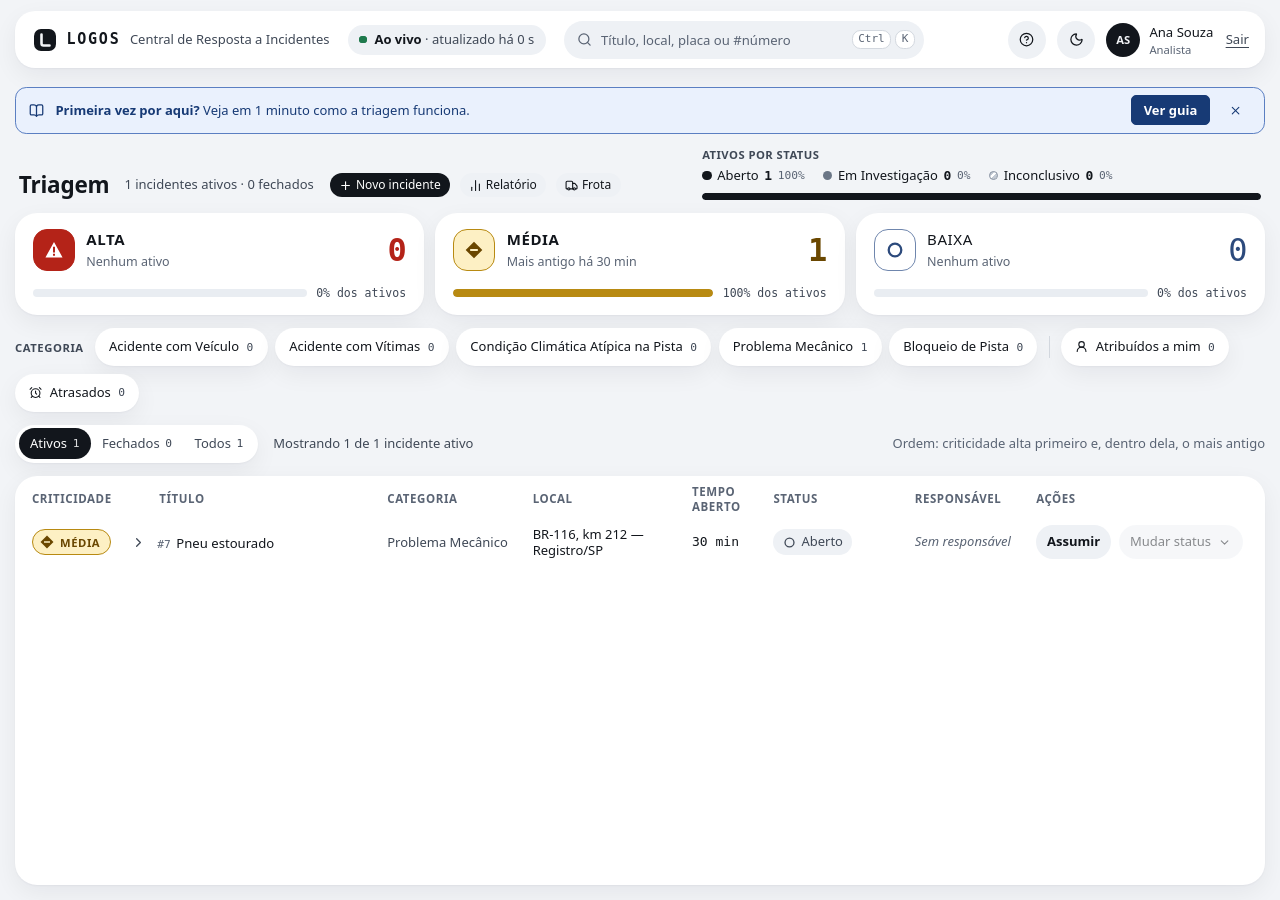
Test: TelaTriagem — editar › envia só o campo alterado com a versão lida
Click the button named "Ver detalhes de #7" at (138, 542), box [125,529,152,555]
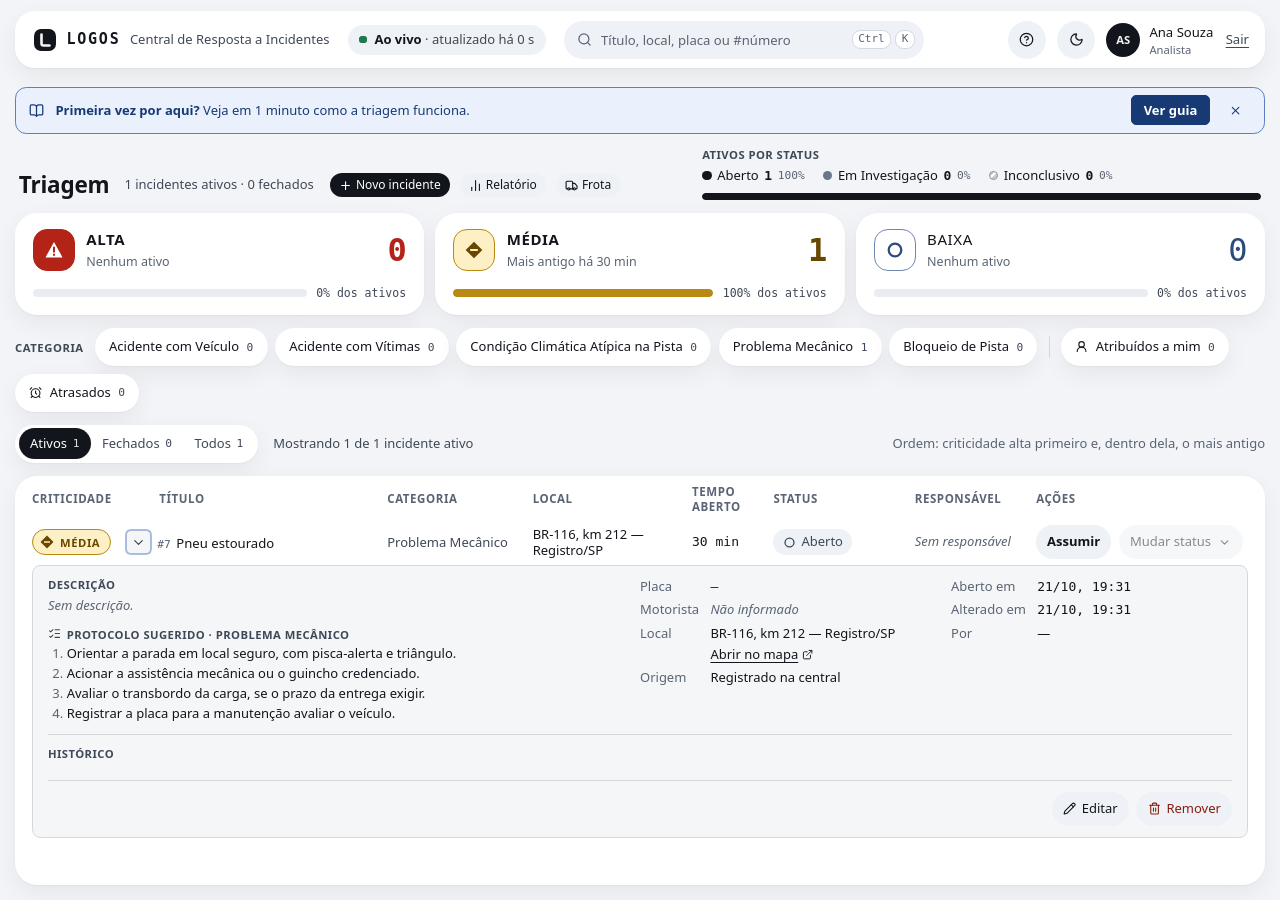
Click the button with aria-label "Editar #7" at (1090, 809), box [1052,792,1129,826]
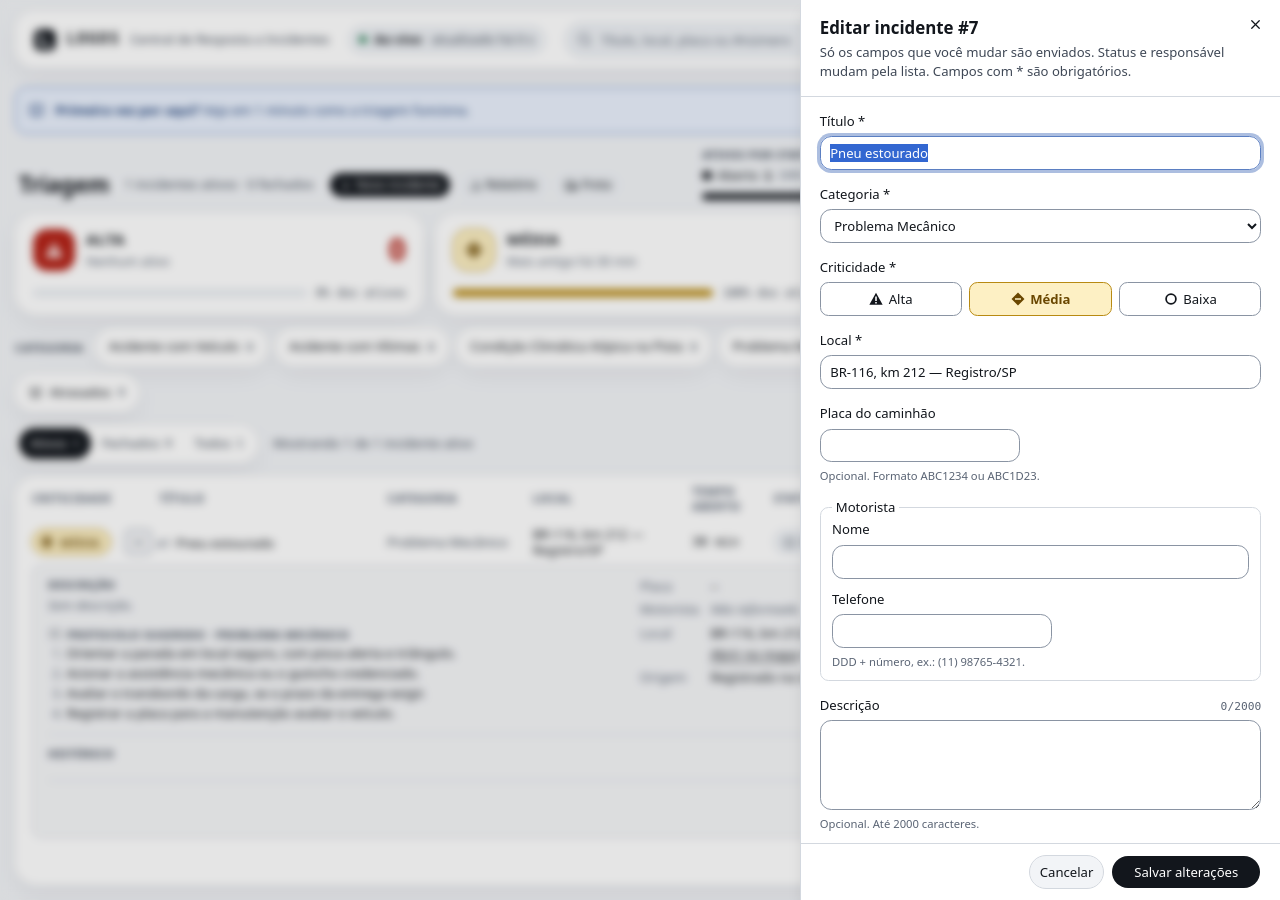
Now the field labelled "Título *" holds "Pneu estourado"
Type " no eixo 2" into the field labelled "Título *" at (1041, 153), box [820,136,1261,170]
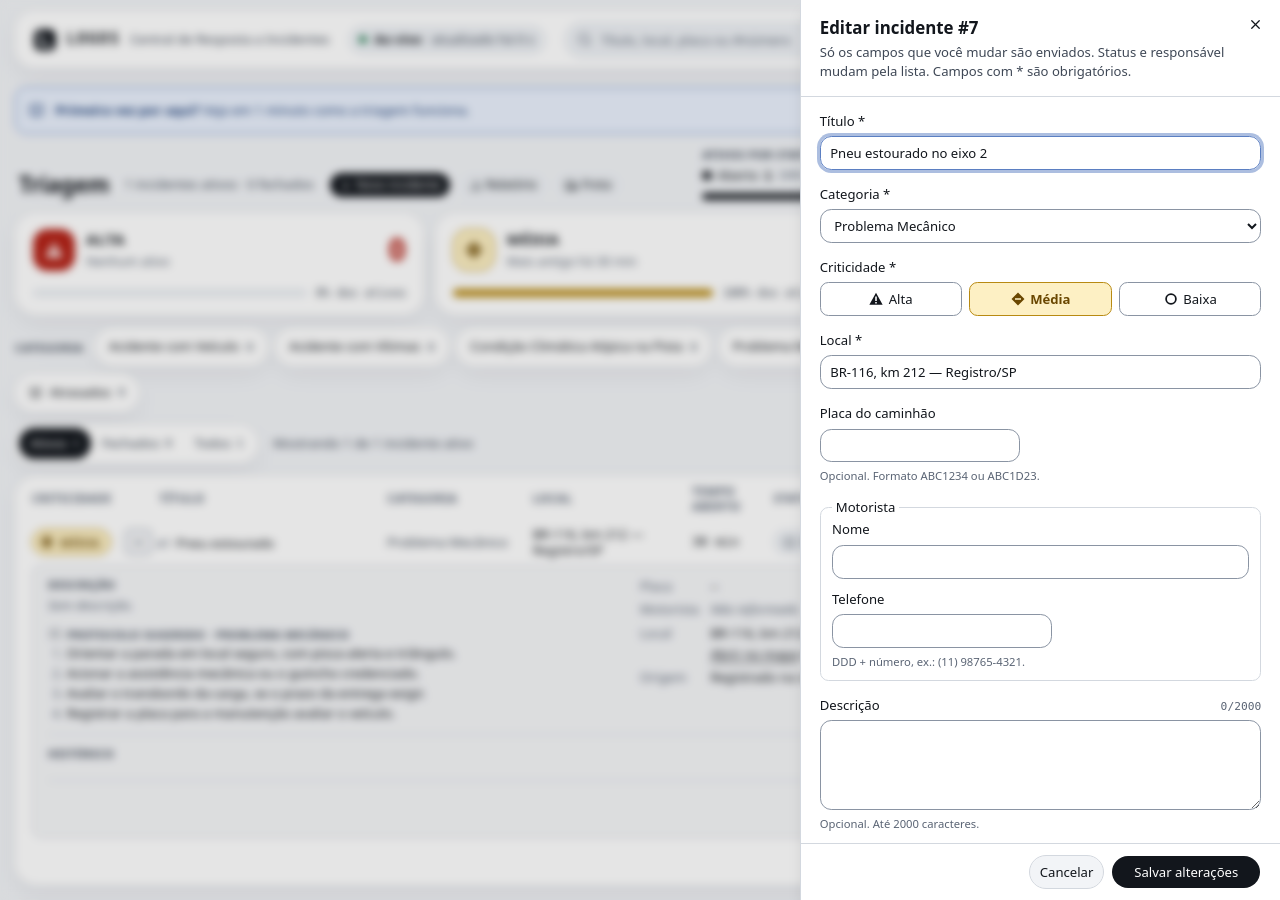
Click the button "Salvar alterações" at (1186, 872), box [1111,855,1261,889]
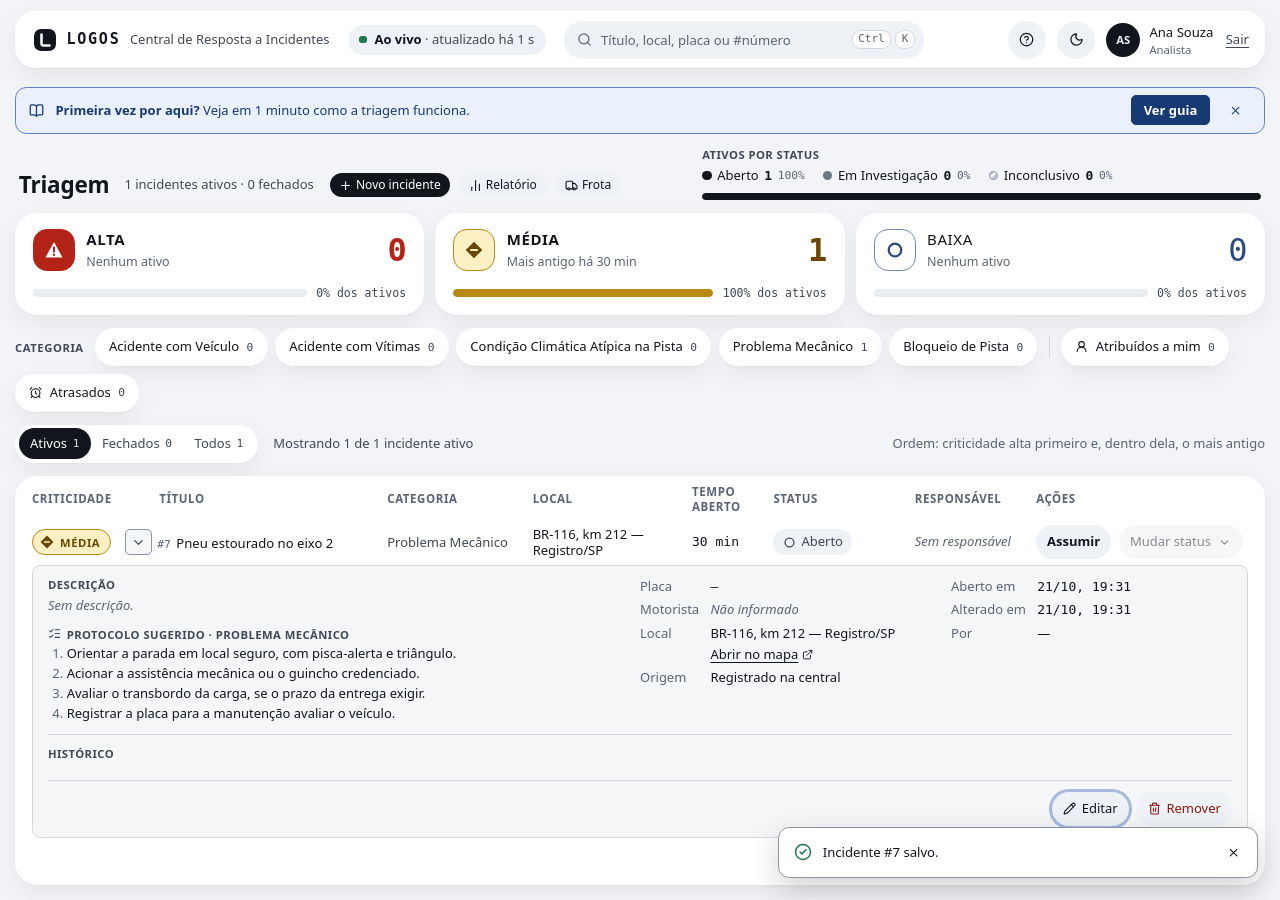
Now the dialog is gone
Now the text "Pneu estourado no eixo 2" is shown, box [176,534,333,552]
